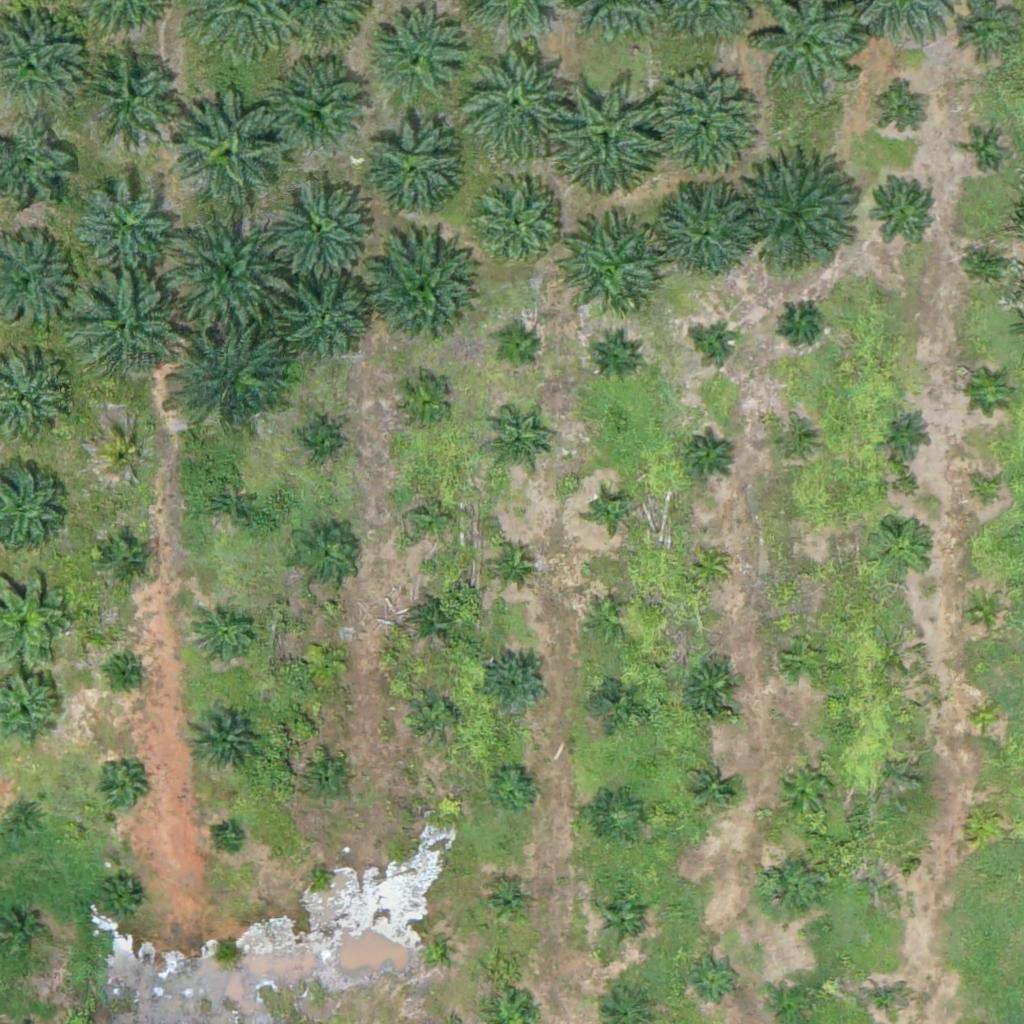Kelapa_Sawit: (546, 74, 671, 200), (454, 40, 579, 166), (164, 205, 289, 331), (172, 316, 297, 442), (742, 155, 867, 280), (363, 236, 476, 350), (643, 68, 756, 181), (72, 274, 185, 387), (264, 166, 376, 280), (174, 86, 286, 200), (552, 218, 664, 331), (653, 179, 753, 280), (467, 173, 567, 274), (368, 9, 468, 110), (76, 175, 176, 276), (360, 118, 460, 218), (273, 57, 373, 157), (82, 45, 182, 145), (282, 277, 370, 365), (186, 702, 261, 778), (866, 171, 941, 246), (484, 416, 547, 479), (390, 370, 453, 433), (757, 854, 820, 917), (486, 652, 549, 715), (401, 487, 464, 550), (294, 525, 356, 588), (194, 604, 256, 667), (681, 656, 743, 719), (775, 757, 837, 820), (871, 517, 933, 580), (198, 474, 260, 537), (593, 791, 643, 842), (591, 673, 641, 724), (411, 595, 461, 646), (880, 88, 930, 139), (487, 538, 537, 589), (412, 689, 462, 740), (291, 416, 341, 467), (300, 635, 350, 686), (488, 762, 538, 813), (686, 762, 736, 813), (690, 952, 740, 1003), (598, 894, 648, 945), (101, 533, 151, 583), (591, 331, 641, 381), (685, 429, 735, 479), (881, 408, 931, 458), (781, 633, 831, 683), (584, 593, 634, 643), (492, 326, 542, 376), (306, 756, 356, 806), (483, 879, 533, 929), (95, 762, 145, 812), (98, 876, 148, 926), (2, 794, 52, 844), (102, 433, 152, 483), (975, 373, 1013, 411), (782, 301, 820, 339), (968, 474, 1006, 512), (966, 593, 1004, 631), (968, 700, 1006, 738), (964, 800, 1002, 838), (690, 547, 728, 585), (593, 492, 631, 530), (699, 327, 736, 365), (776, 425, 813, 463), (788, 554, 825, 592), (871, 852, 908, 890), (966, 135, 1003, 172), (970, 245, 1007, 282), (215, 825, 240, 851), (420, 936, 445, 961), (308, 863, 333, 888), (116, 661, 141, 686)
